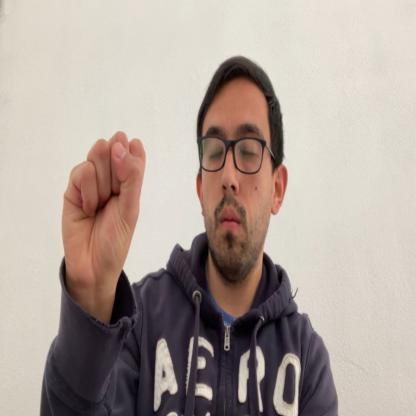S: (61, 130, 147, 295)
